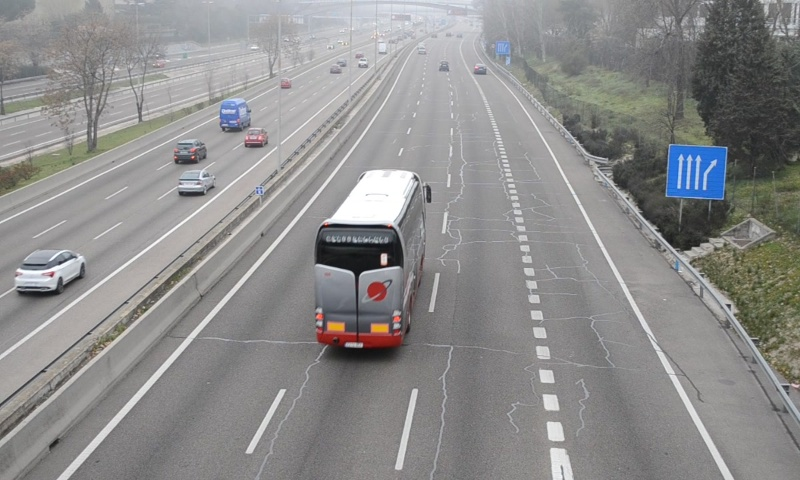bus: (311, 170, 426, 350)
car: (473, 62, 487, 75), (438, 59, 450, 72)
